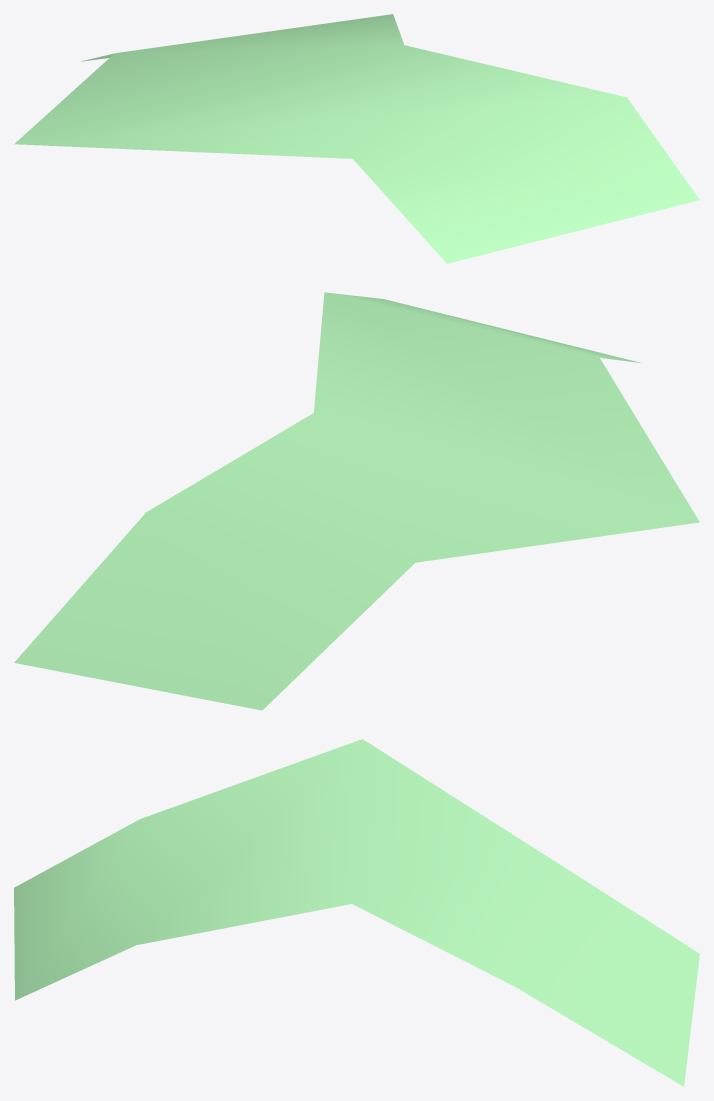
Rendered from change_2.fbx.
3 renders of one model, top to bottom at view 1: azimuth 30°, elevation 25°; view 2: azimuth 150°, elevation 25°; view 3: azimuth 270°, elevation 25°, orthographic. The views are drawn at different scales.
Parts seen in each view (by area): view 1: change_2; view 2: change_2; view 3: change_2.
Boxes of the visible parts, bbox=[...] form: change_2: bbox=[14, 14, 699, 263]; change_2: bbox=[14, 292, 699, 710]; change_2: bbox=[14, 739, 699, 1086].
Size of the model in its own units: 5.71 by 1.66 by 7.34.
